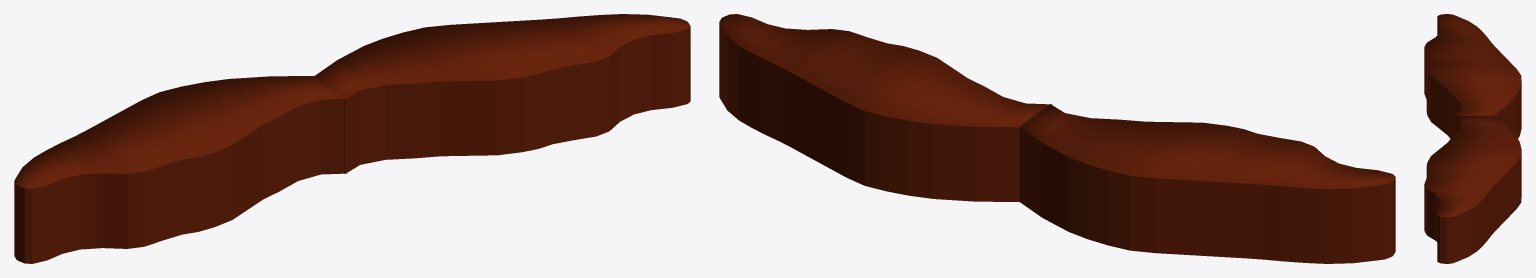
The model's file is liver.glb.
3 renders of one model, left to right at view 1: azimuth 30°, elevation 25°; view 2: azimuth 150°, elevation 25°; view 3: azimuth 270°, elevation 25°, orthographic. The views are drawn at different scales.
Visible parts, largest first — view 1: liver; view 2: liver; view 3: liver.
Part boxes in pixels (x1,y1,x2,y2): liver: (14, 14, 690, 263); liver: (719, 14, 1395, 263); liver: (1424, 14, 1521, 263).
Bounding box in the file's own units: 6.57 × 0.7012 × 1.33.
